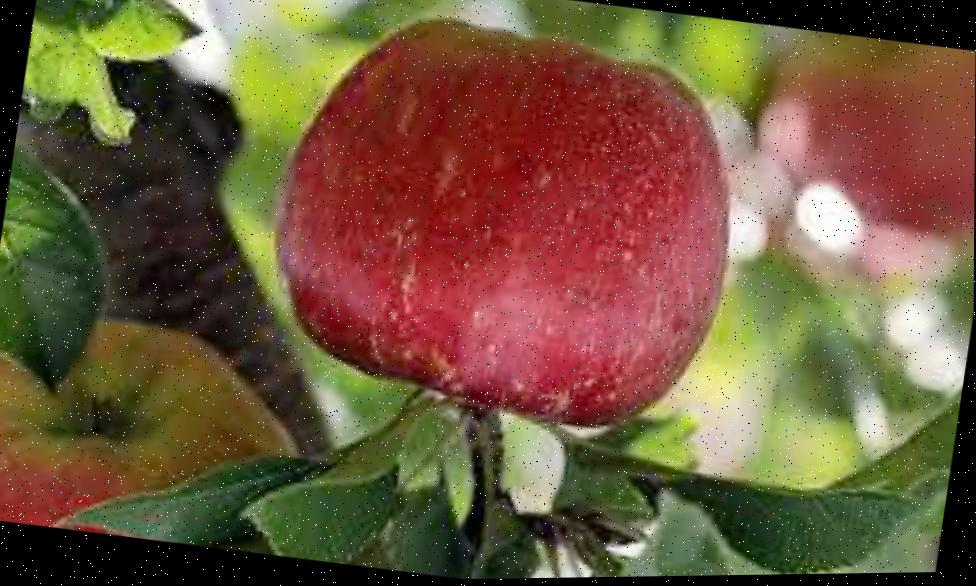HEALTHY: (192, 0, 807, 497)
